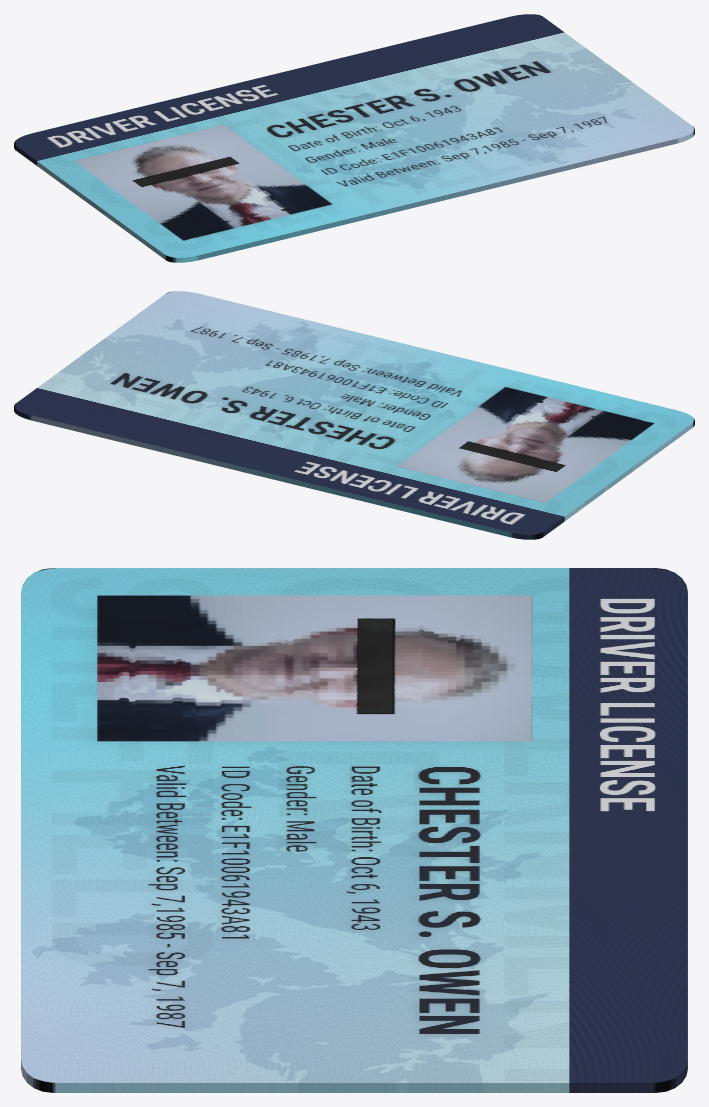
File: driverLicense.fbx
The picture shows the model from 3 angles, top to bottom: view 1: azimuth 30°, elevation 25°; view 2: azimuth 150°, elevation 25°; view 3: azimuth 270°, elevation 25°; orthographic projection. The views are drawn at different scales.
Visible parts, largest first — view 1: Plane; view 2: Plane; view 3: Plane.
Part boxes in pixels (x1,y1,x2,y2): Plane: [14, 14, 694, 262]; Plane: [14, 291, 694, 539]; Plane: [21, 568, 687, 1092].
Size of the model in its own units: 862 by 7.69 by 472.
1 material, 1 textured.
